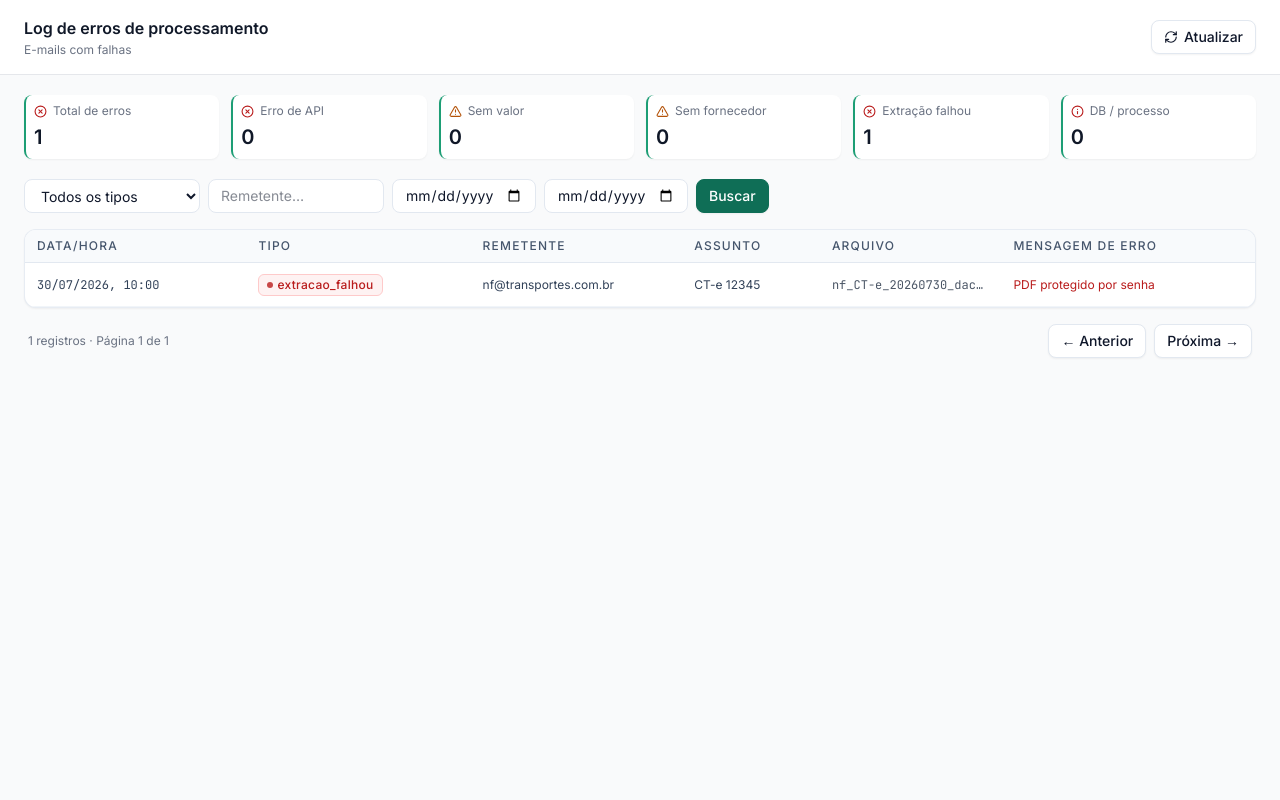
Erros — página › clicar na linha abre o detalhe e clicar de novo fecha
The width and height of the screenshot is (1280, 800).
Expected: the text "Payload bruto" is not shown
Click the text "CT-e 12345" at (640, 284), box [25,262,1255,306]
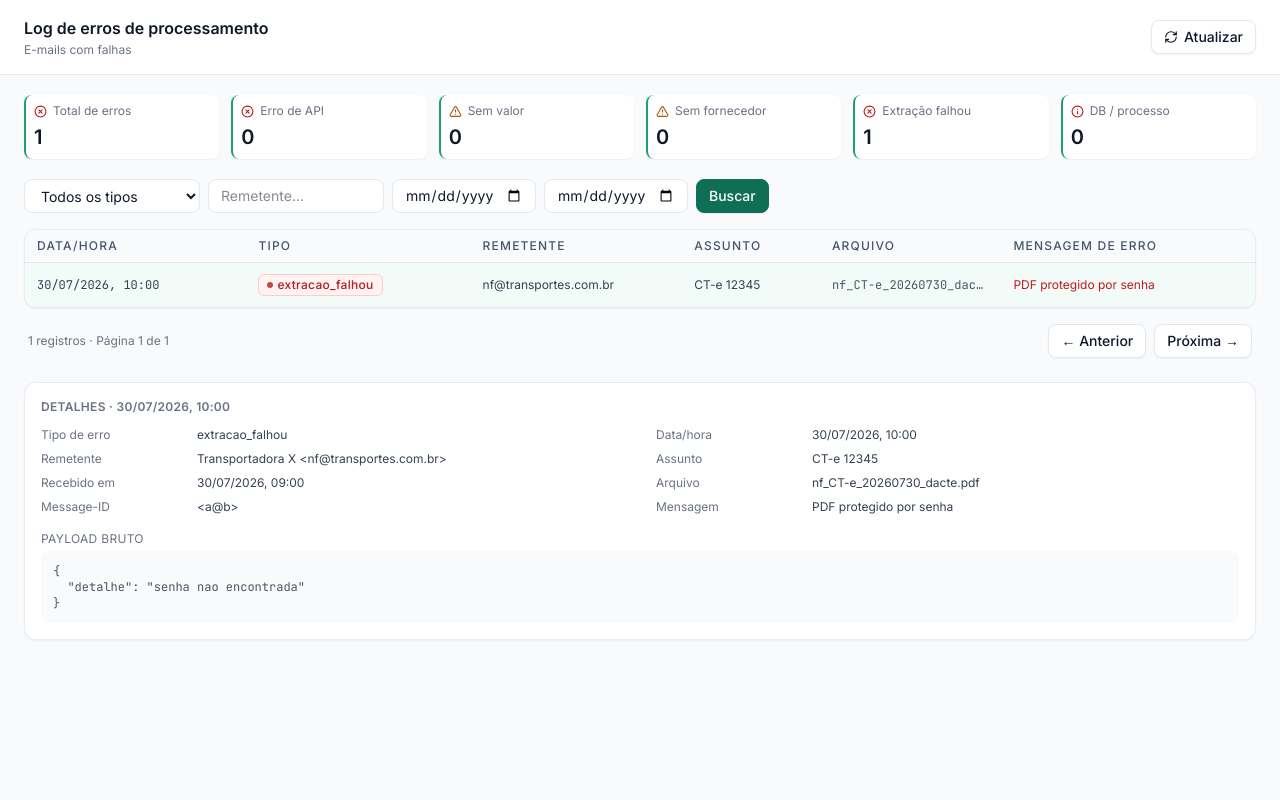
Now the text "Payload bruto" is shown, box [41,531,144,546]
Now the text "{ \"detalhe\": \"senha nao encontrada\" }" is shown, box [41,551,1239,623]
Click the text "CT-e 12345" at (640, 284), box [25,262,1255,306]
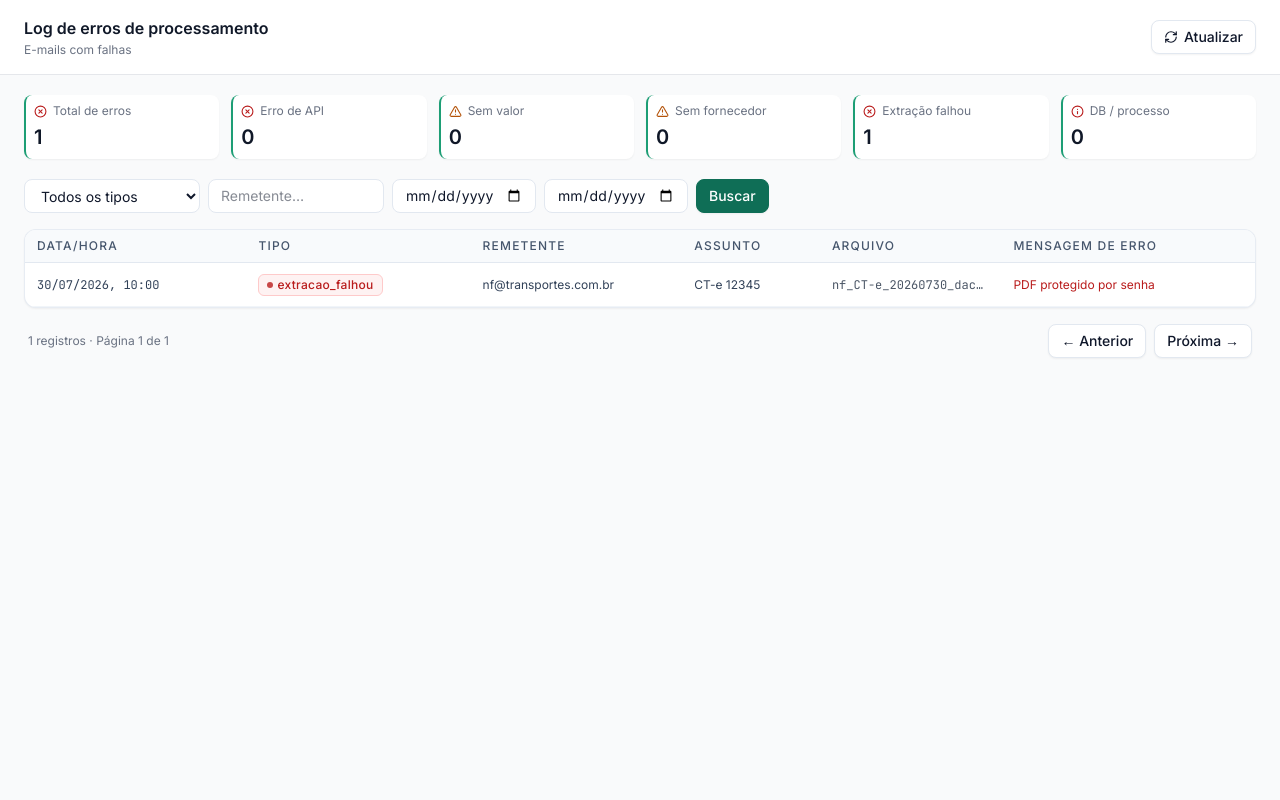
Now the text "Payload bruto" is gone
